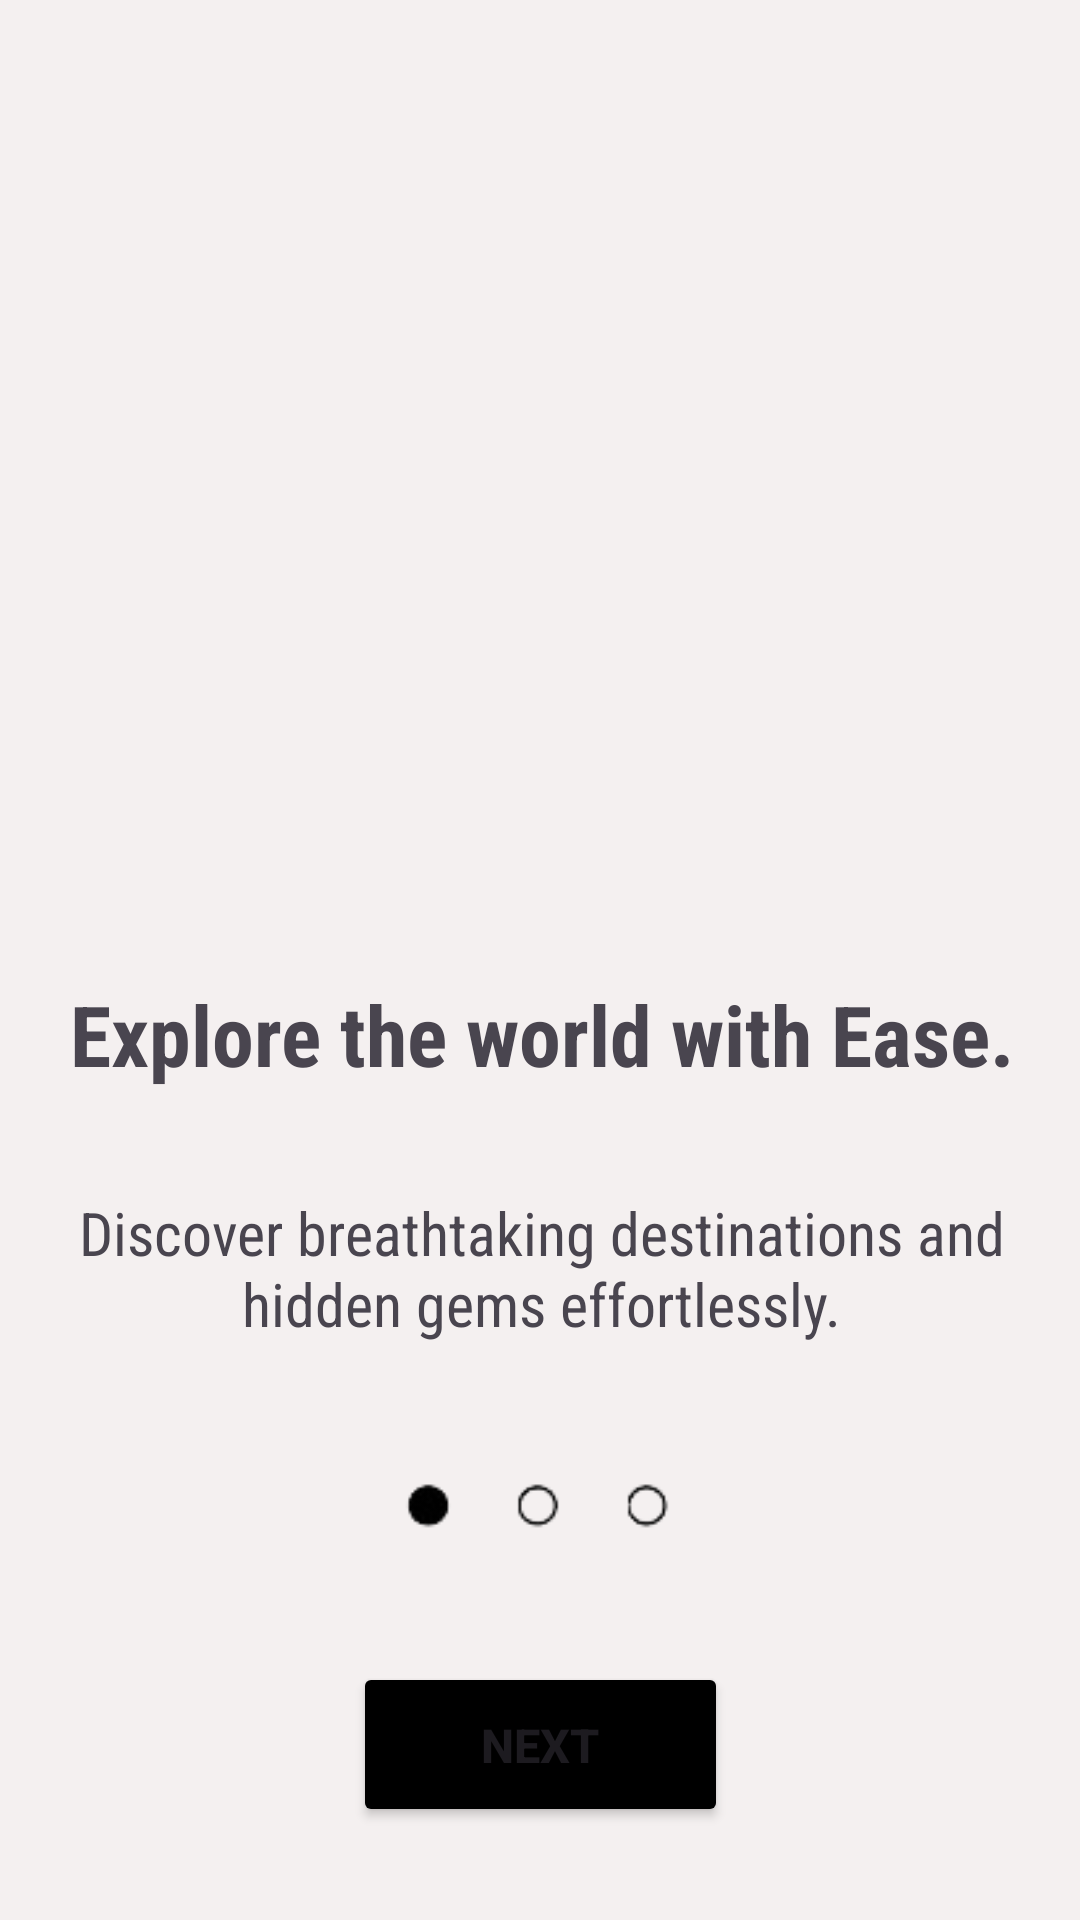

Icon bounding boxes for this 1080 x 1920 phone screenshot, format [x1=x1, y1=y1, x2=x2, y2=y2]:
dot: [x1=408, y1=1484, x2=668, y2=1528]
